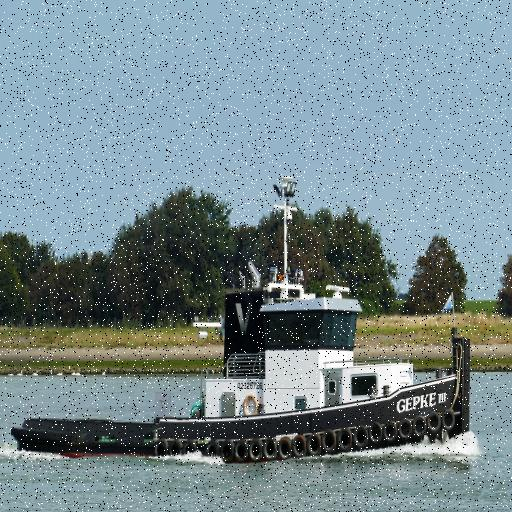tugboat: (8, 173, 475, 474)
